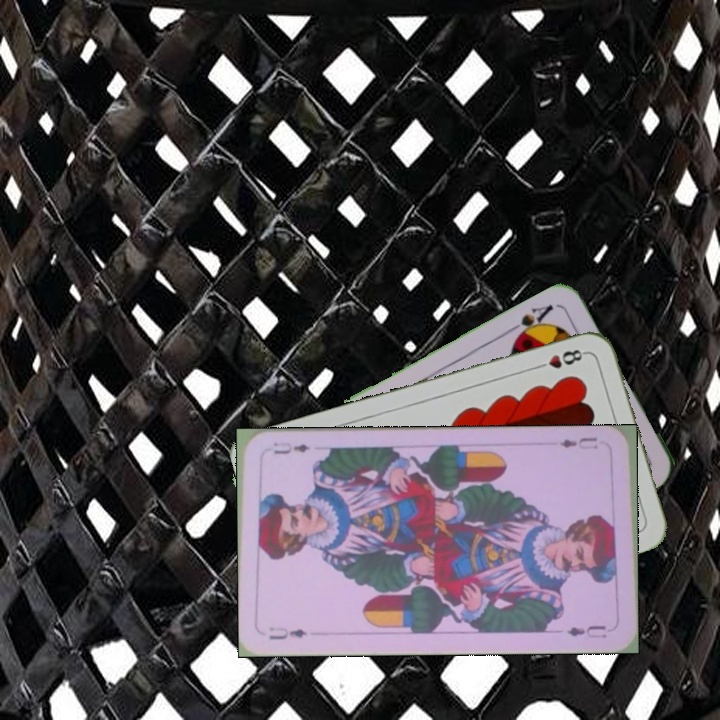EU: (265, 623, 310, 642), (556, 433, 600, 452)
H8: (531, 345, 589, 372)
SA: (507, 300, 556, 341)
